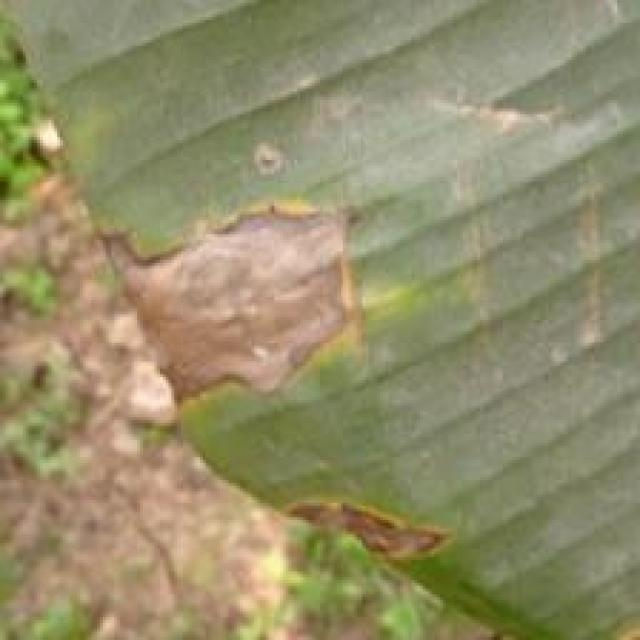Bacterial_spot: (87, 189, 374, 427), (271, 472, 466, 586), (441, 155, 519, 393), (549, 148, 615, 369), (418, 70, 560, 145), (242, 128, 298, 188)
